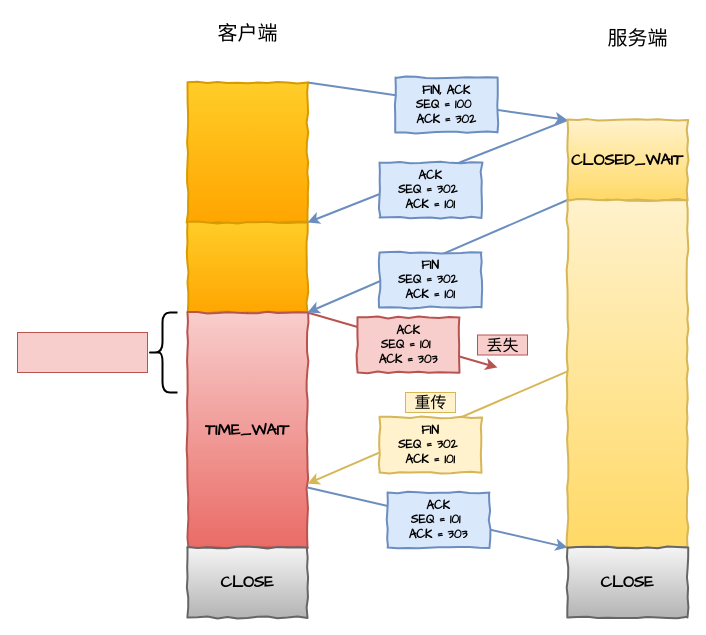
This 706x635 diagram has some shape labels left out. Each missing label, with the box of its shape:
FIN_WAIT_1: (186, 81, 308, 223)
FIN_WAIT_2: (186, 221, 308, 313)
LAST_ACK: (566, 198, 688, 548)
TIME-WAIT 时间过短或没有: (16, 332, 148, 372)
